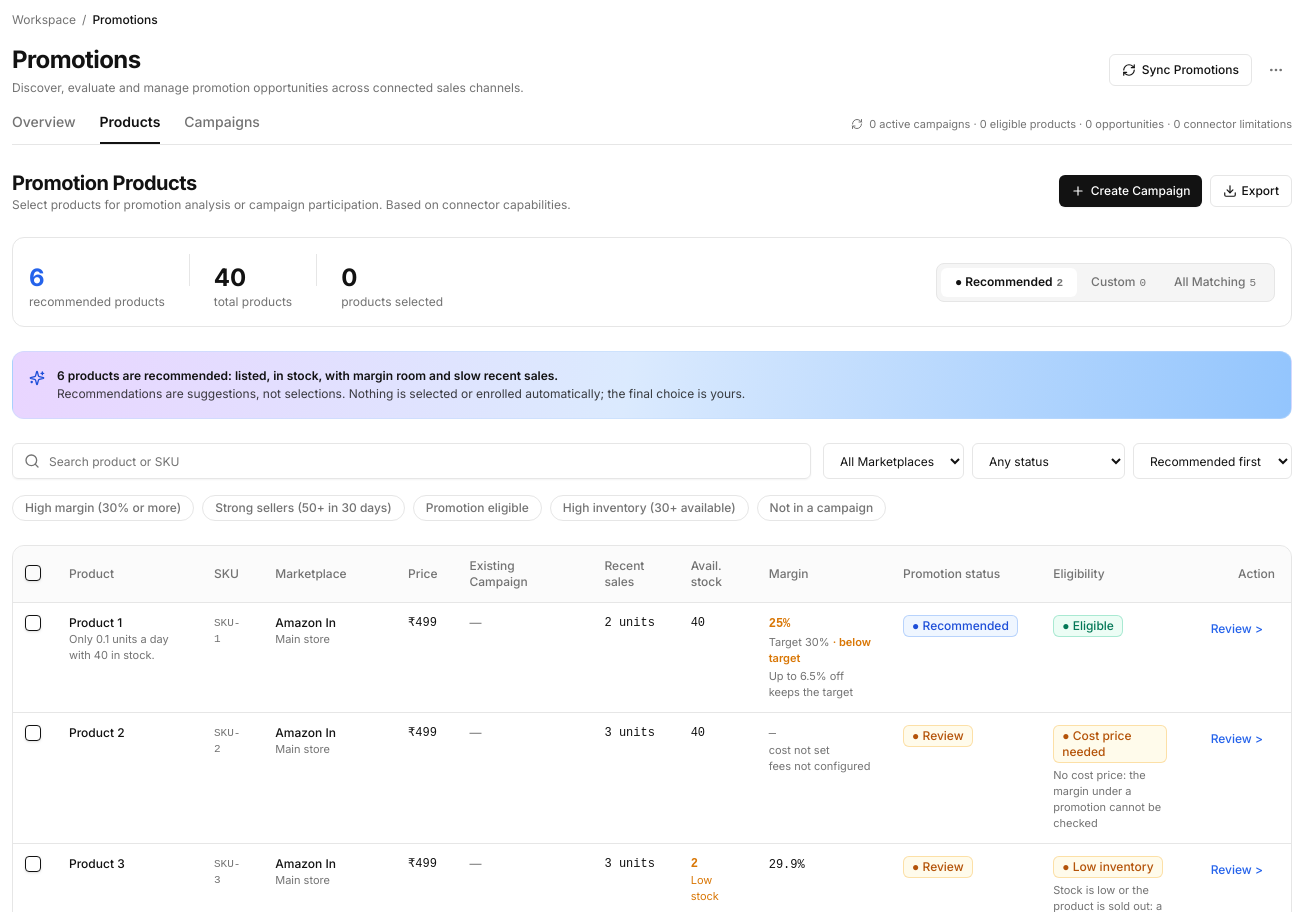
Products tab › defaults to the recommended segment, and the custom segment asks the server for nothing
expect the text "Product 1" is shown: met, box [69,615,122,630]
What coordinates should you click on to do the following:
click the button "Custom0"
I would click on:
 (1119, 282)
Its box is [1077,268,1160,296].
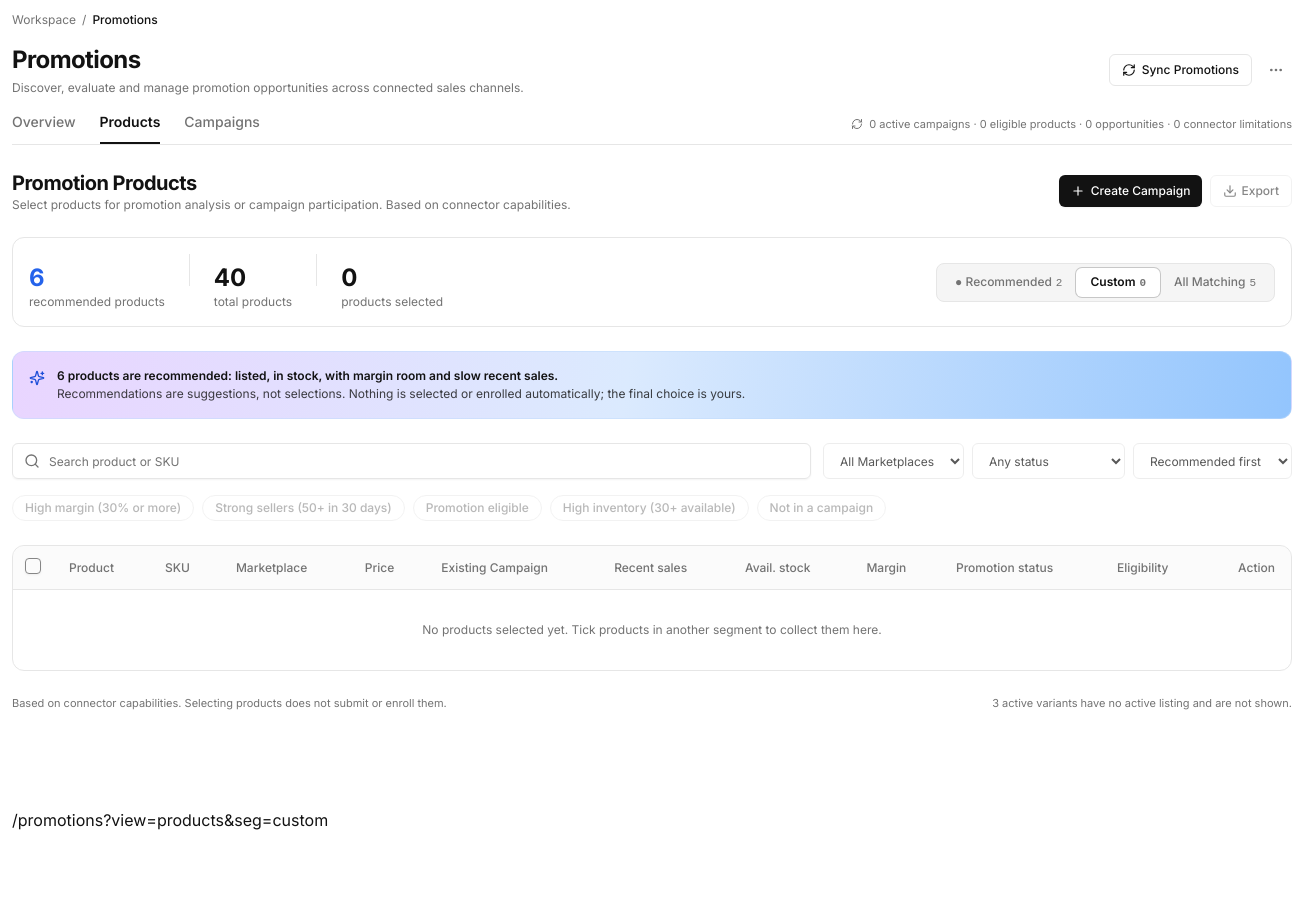
expect the text with test id "loc" shows "seg=custom": met, box [12,810,328,830]
expect the text "No products selected yet" is shown: met, box [422,622,882,637]
